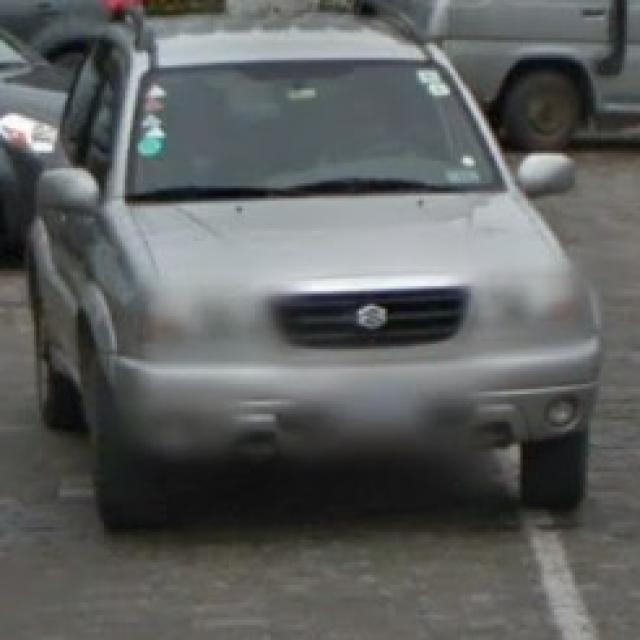Car: (25, 23, 600, 559)
